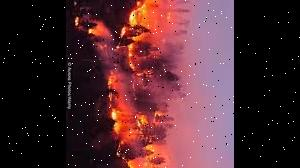fire: (103, 0, 175, 168)
